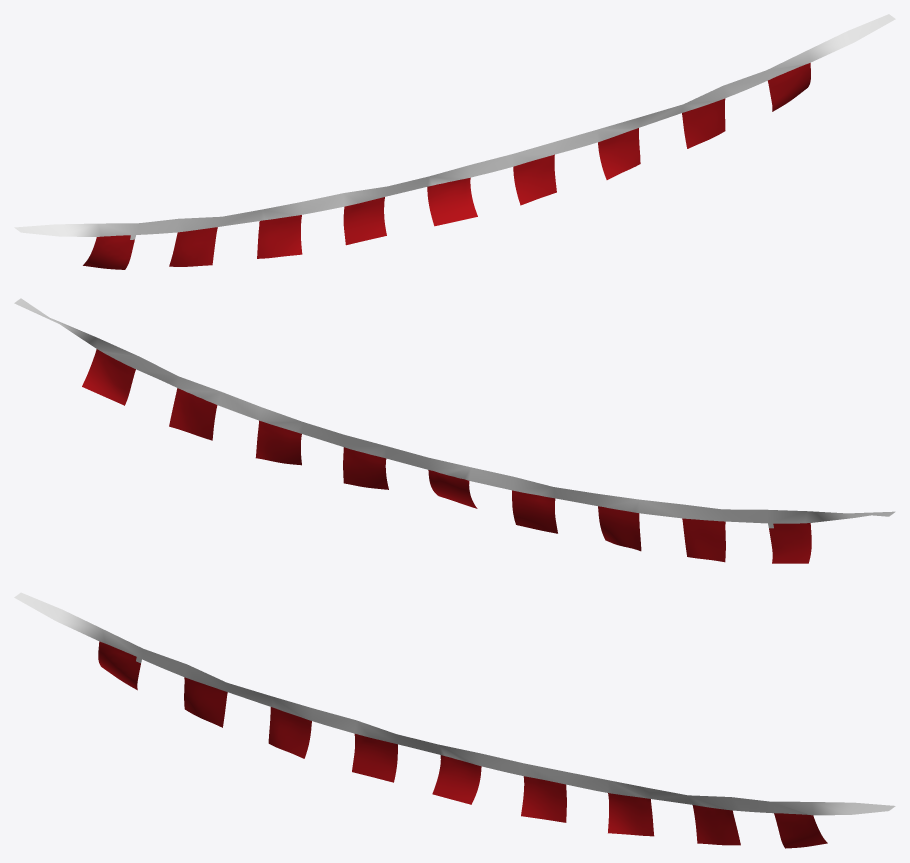
The model's file is flagBanner.fbx.
3 renders of one model, top to bottom at view 1: azimuth 30°, elevation 25°; view 2: azimuth 150°, elevation 25°; view 3: azimuth 330°, elevation 25°, orthographic.
Parts seen in each view (by area): view 1: Plane; view 2: Plane; view 3: Plane.
Part boxes in pixels (bbox=[...]): Plane: bbox=[14, 14, 895, 269]; Plane: bbox=[14, 298, 895, 563]; Plane: bbox=[14, 592, 895, 848].
Bounding box in the file's own units: 2008 × 218 × 54.05.
